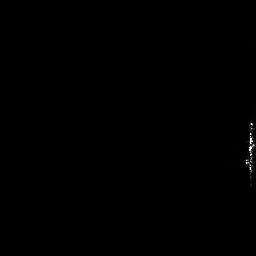ship: (246, 119, 256, 178)
